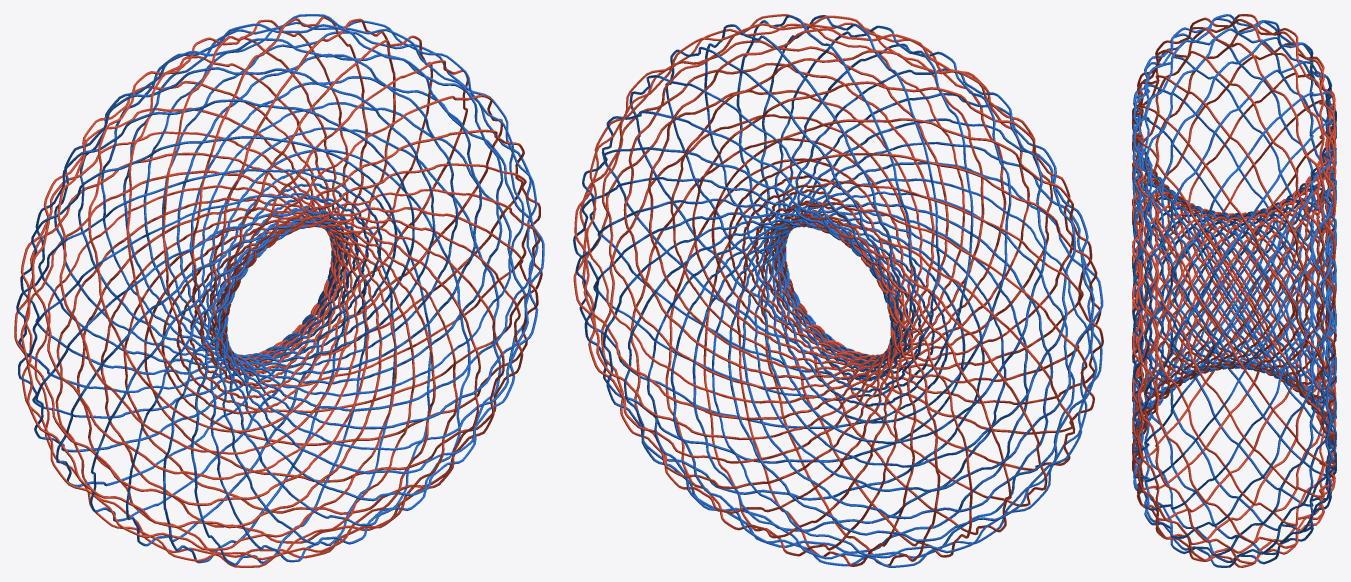
File: meshed_torus_II_achiral_de015.tube.obj
3 views of the same model, side by side, from view 1: azimuth 30°, elevation 25°; view 2: azimuth 150°, elevation 25°; view 3: azimuth 270°, elevation 25° (orthographic). The views are drawn at different scales.
Parts seen in each view (by area): view 1: B, A; view 2: A, B; view 3: A, B.
Part boxes in pixels (x1,y1,x2,y2): B: (14, 16, 542, 567); A: (16, 14, 544, 565); A: (573, 15, 1103, 567); B: (573, 14, 1103, 566); A: (1132, 14, 1336, 567); B: (1132, 14, 1336, 567).
Bounding box in the file's own units: 2.01 × 2.01 × 0.7409.
